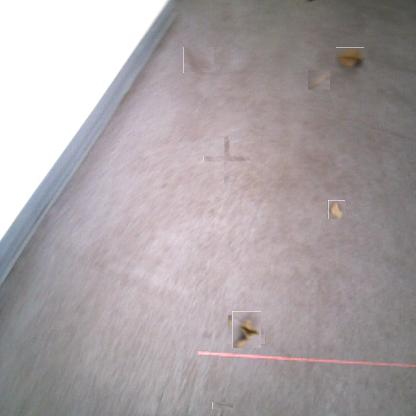dirty: (230, 313, 263, 346), (336, 47, 364, 68), (308, 70, 330, 90), (327, 201, 346, 218)
mark: (183, 48, 214, 74), (153, 372, 171, 416), (214, 146, 240, 173), (215, 398, 230, 413)
